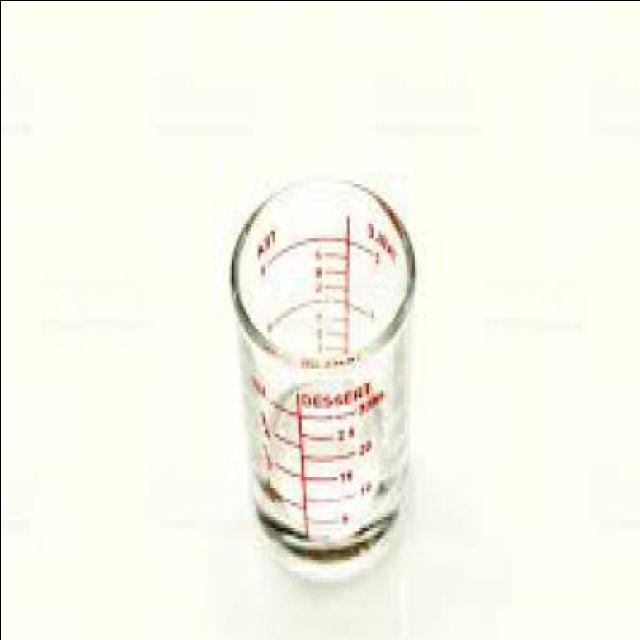kaca: (230, 172, 412, 559)
